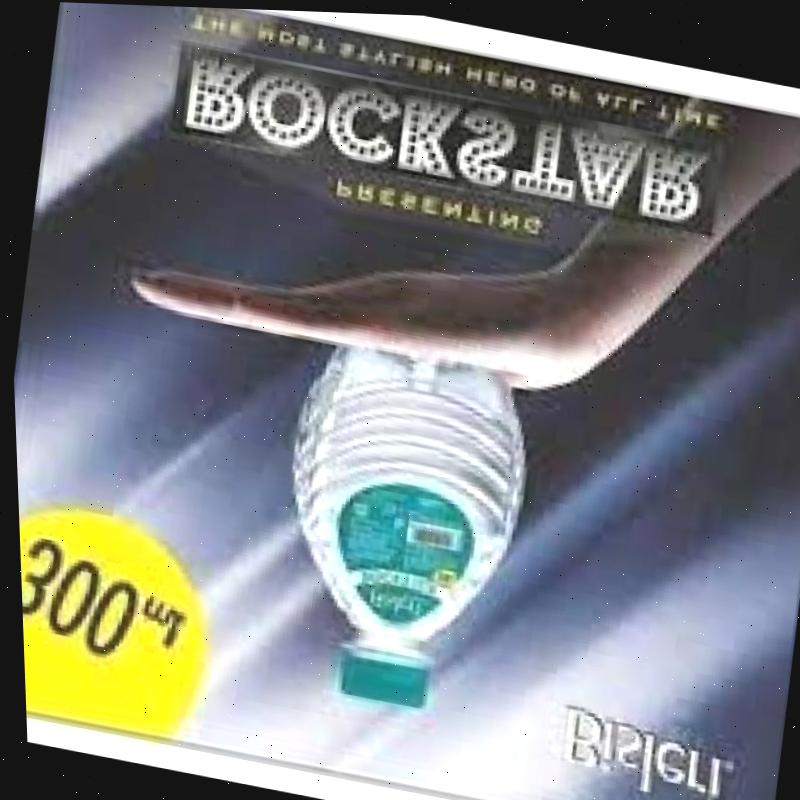botella: (248, 334, 541, 719)
